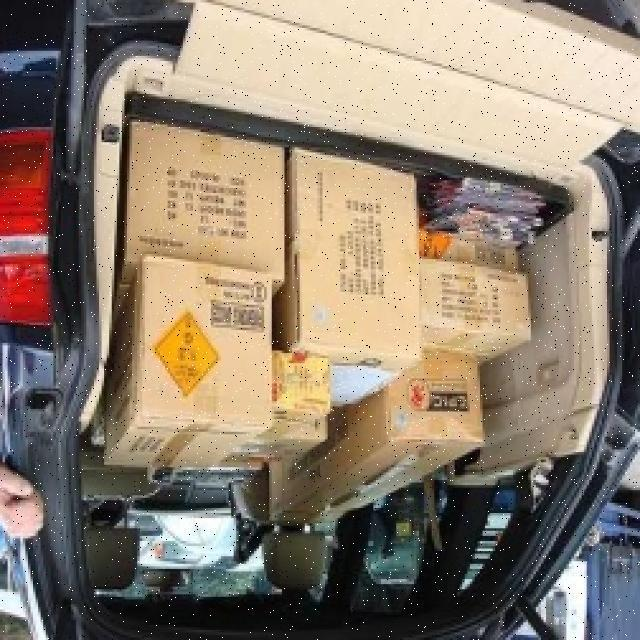box: (258, 358, 480, 556), (276, 150, 430, 380), (115, 116, 304, 296), (108, 266, 273, 467), (414, 265, 518, 362), (410, 206, 536, 284), (237, 408, 330, 474)
